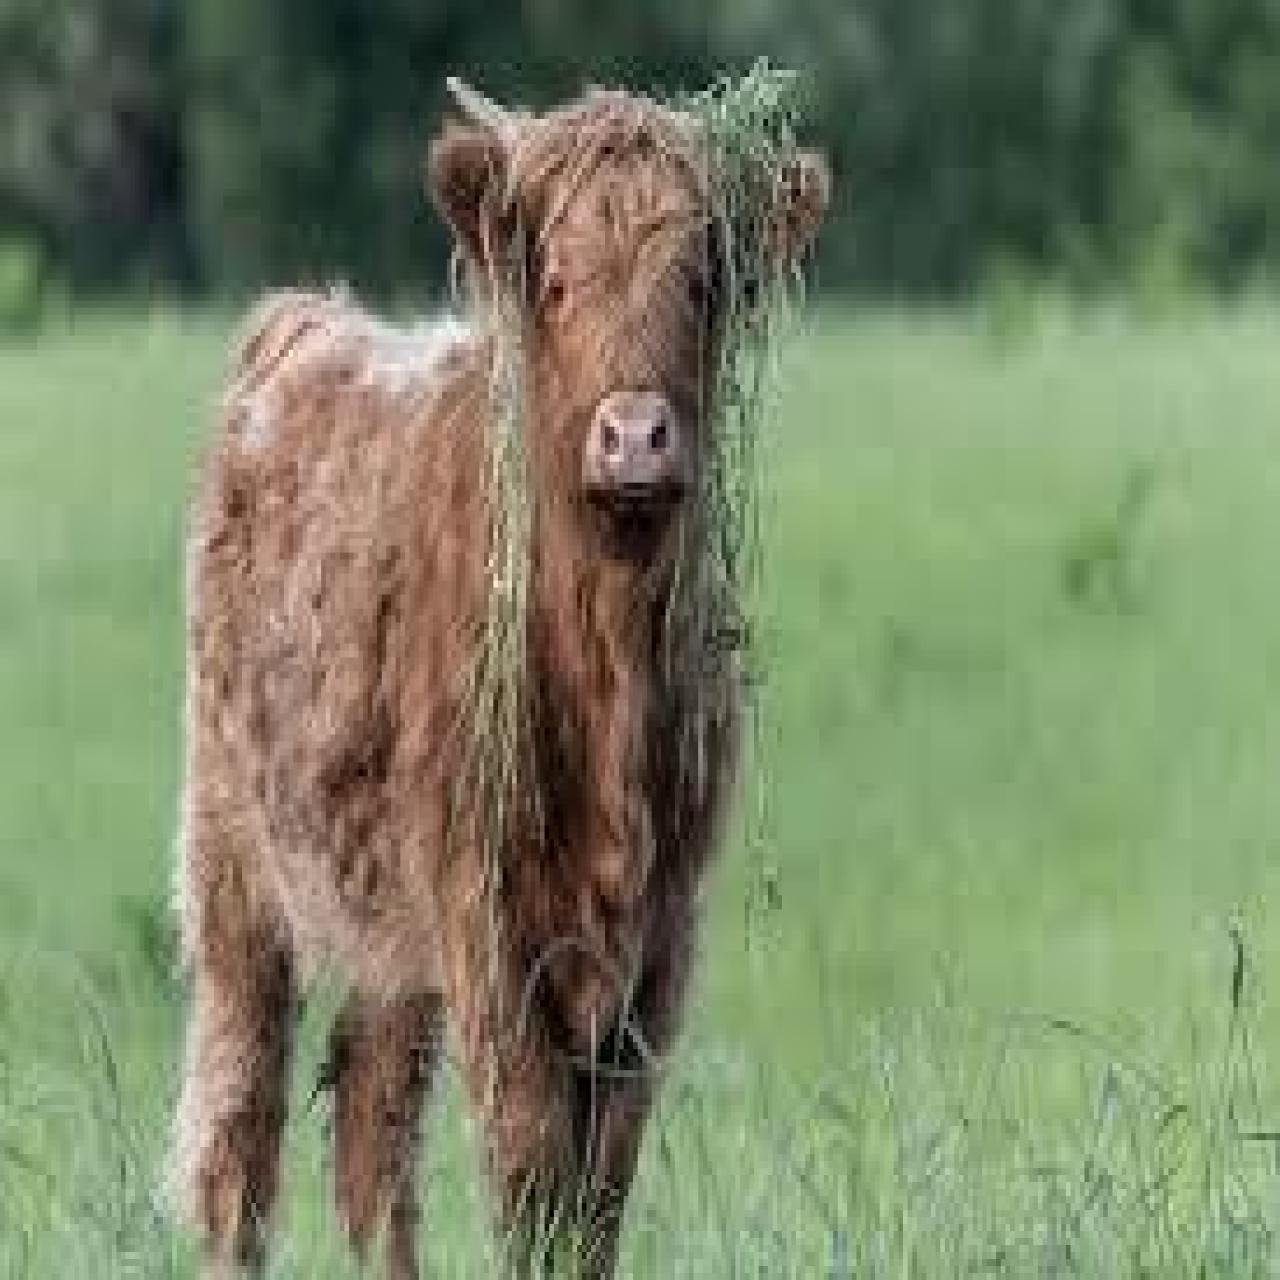cow: (182, 105, 824, 1280)
